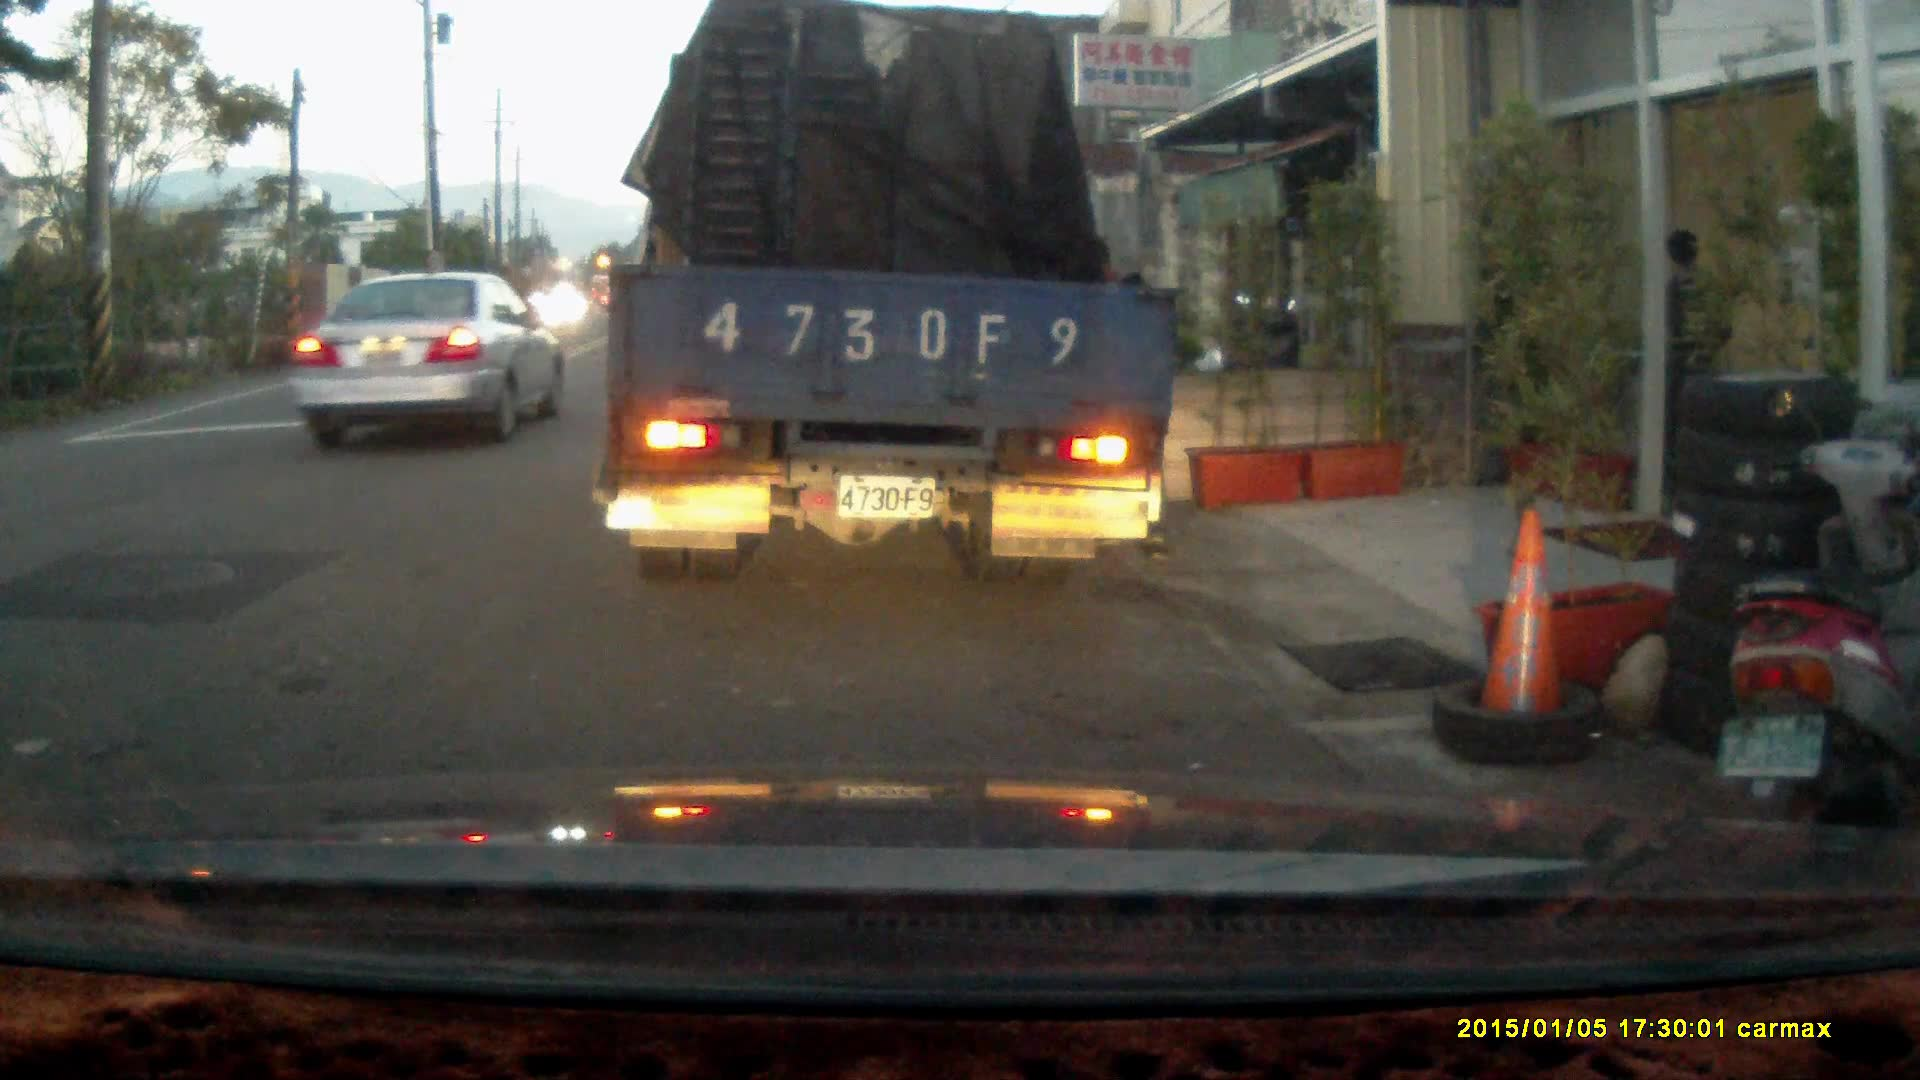pedestrian: (1643, 228, 1731, 478)
vehicle: (605, 23, 1188, 572), (293, 268, 571, 443)
